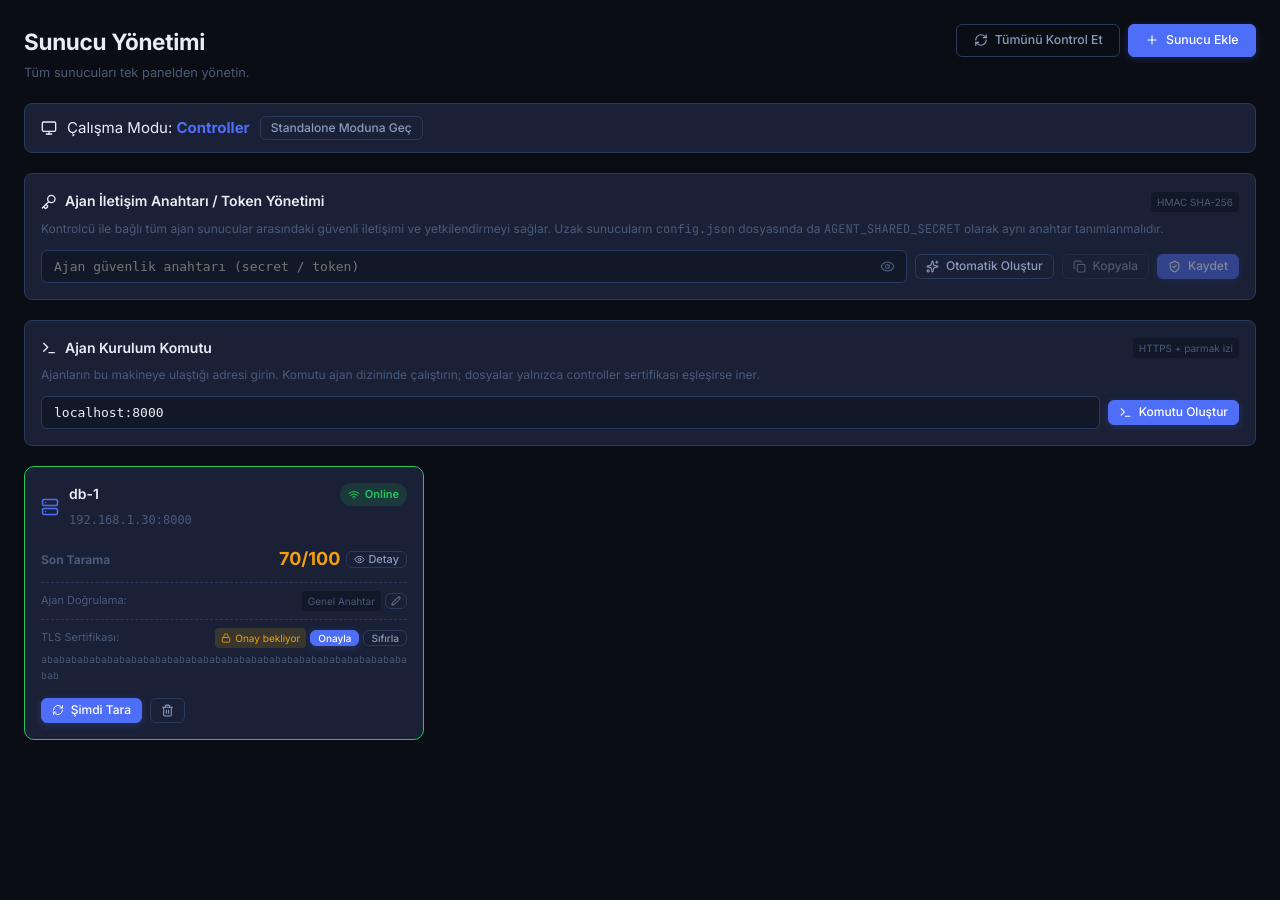
Test case: ServerManagement ajan TLS sertifikası › sıfırlama sertifikayı kaldırır
Click the button titled "Ajan sertifikasını sıfırla". click: (385, 638)
box: [364,630,407,646]
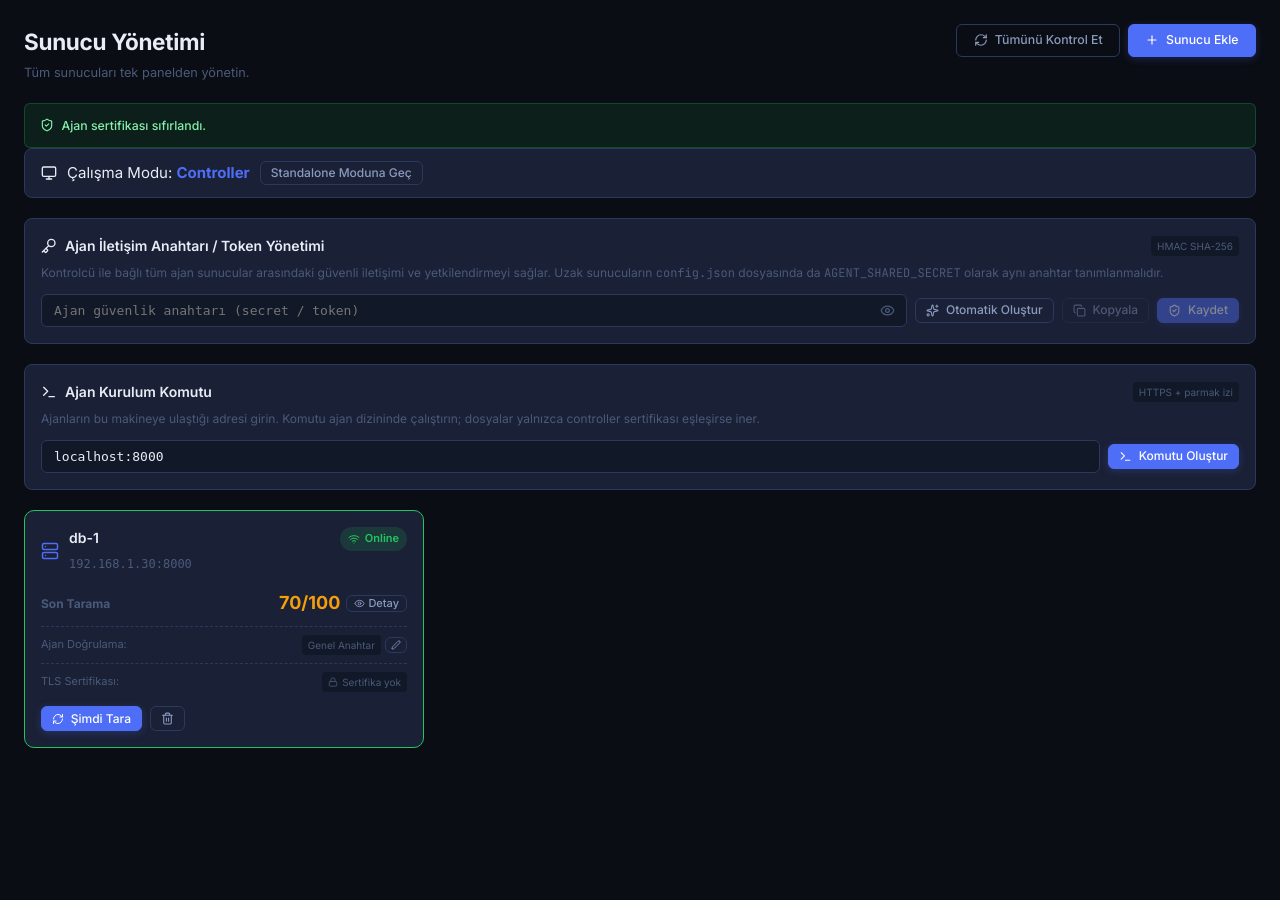
Now the text "Sertifika yok" is shown, box [322,672,407,692]
